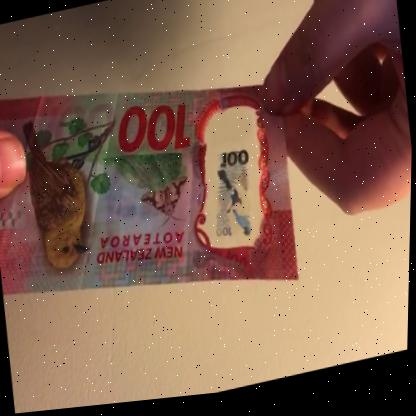100B: (201, 120, 263, 260)
